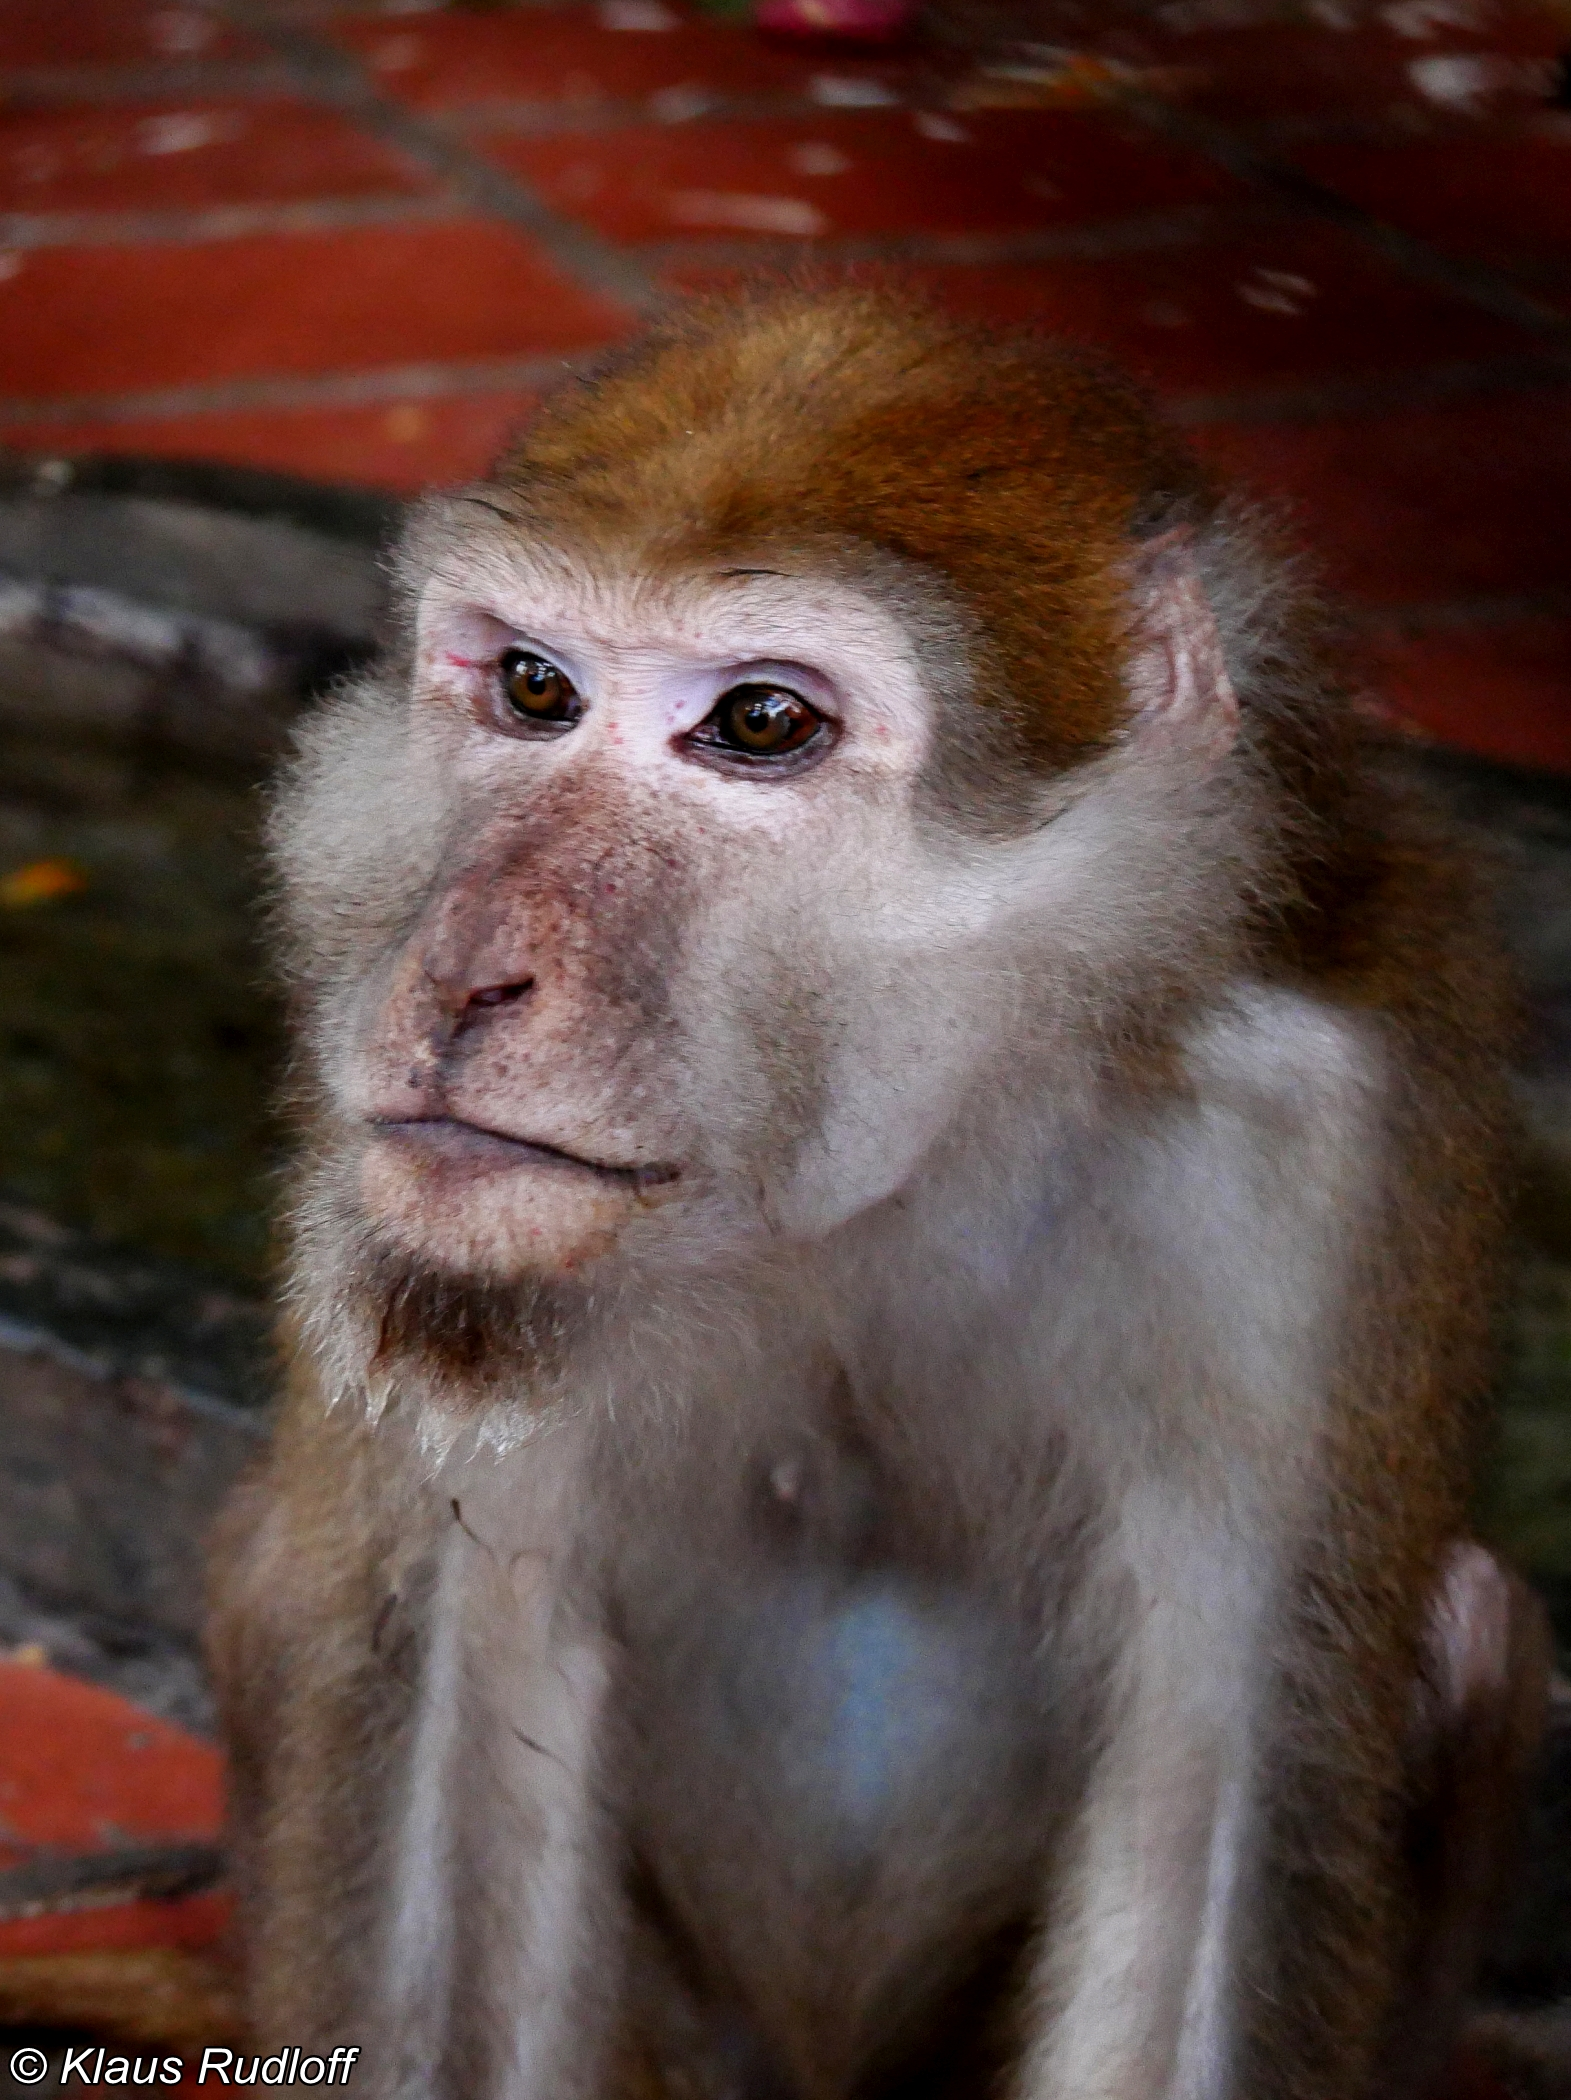monkey: (172, 257, 1571, 2100)
